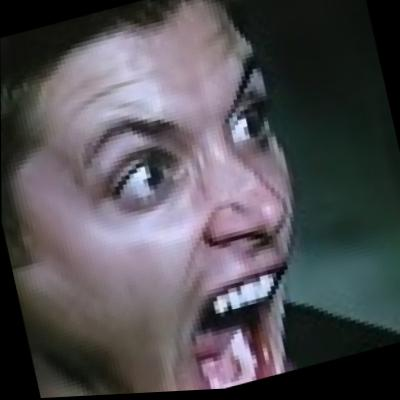angry: (14, 0, 320, 399)
